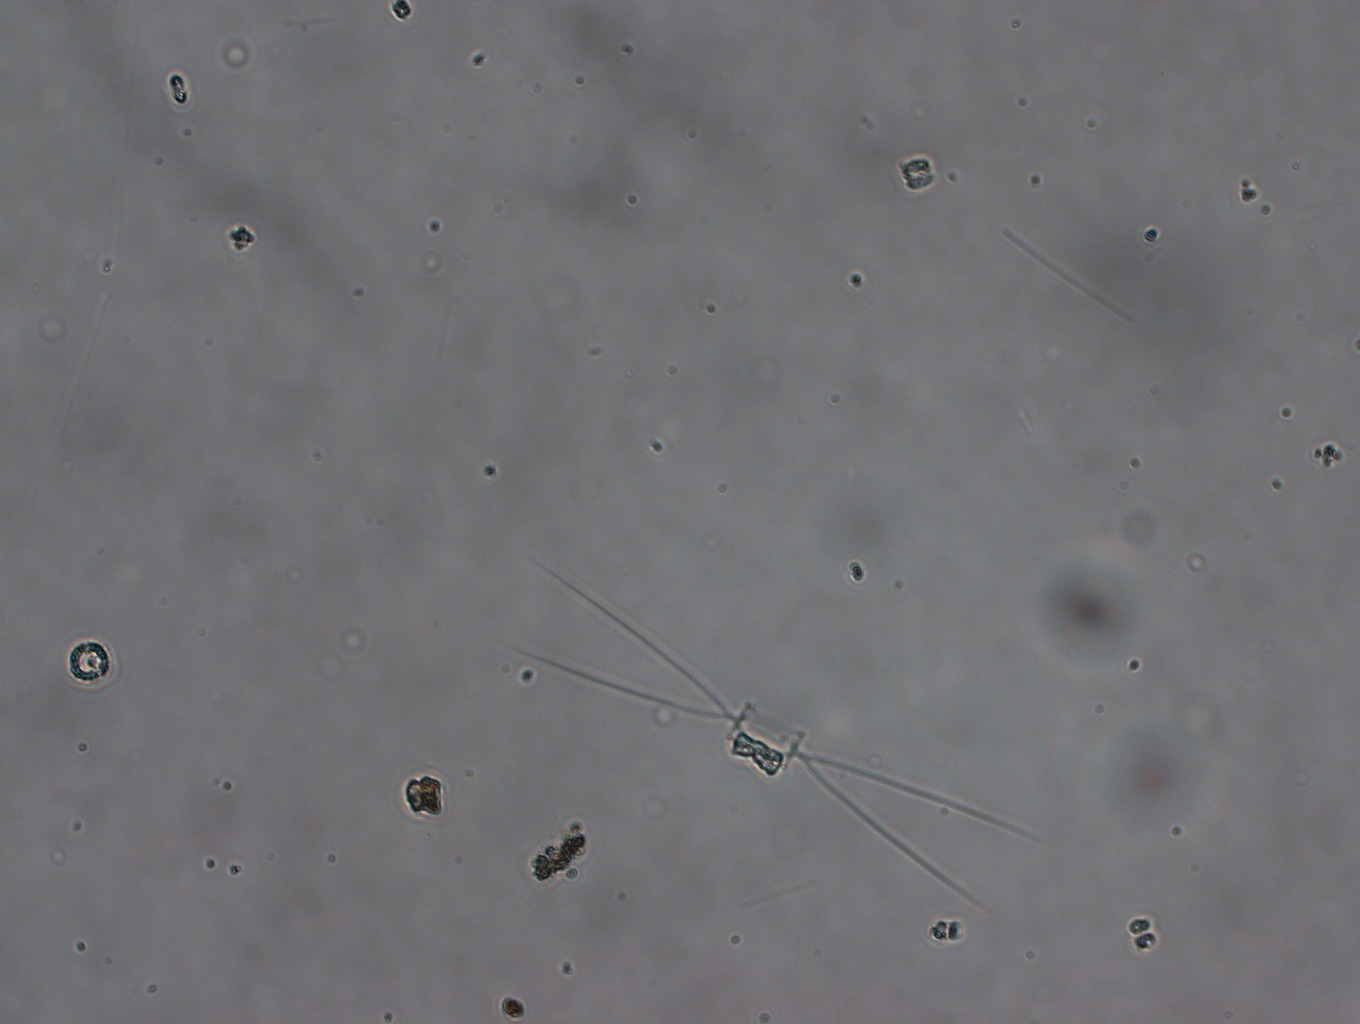chaetoceros: (499, 555, 1044, 911)
